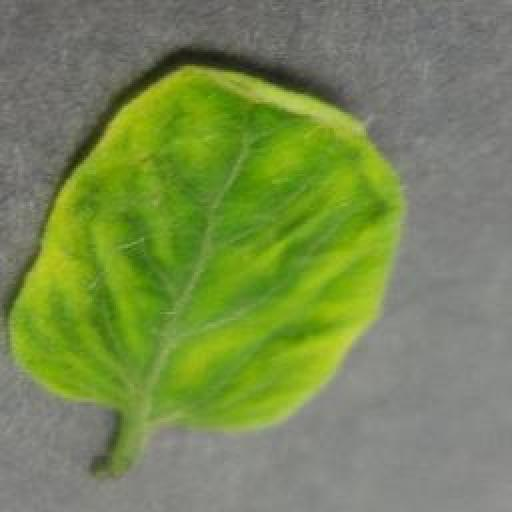Yellow Leaf Curl Virus: (7, 57, 406, 436)
